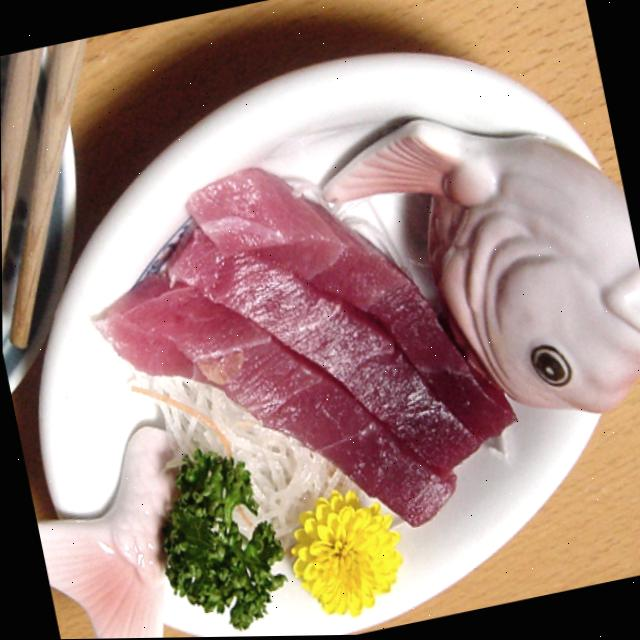刺身生食: (44, 44, 601, 638)
